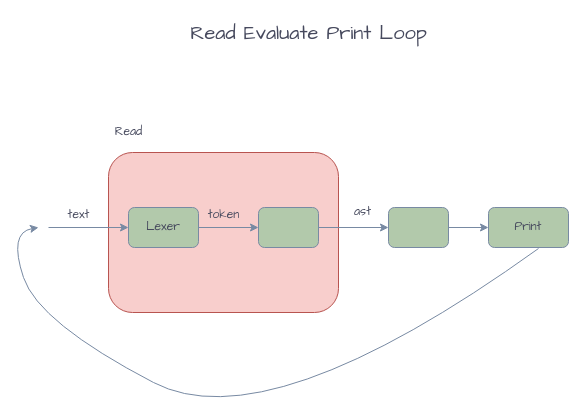
Image size: 586x414. Some labels were removed from this diagram. The centre of each missing label's shape, as x and y in pixels:
Eval: pixel 418 227
Parser: pixel 288 227
